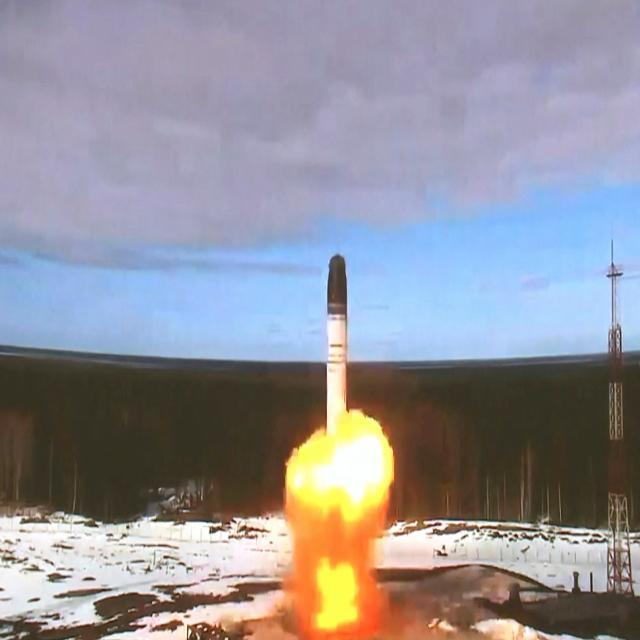Missile: (324, 253, 351, 439)
